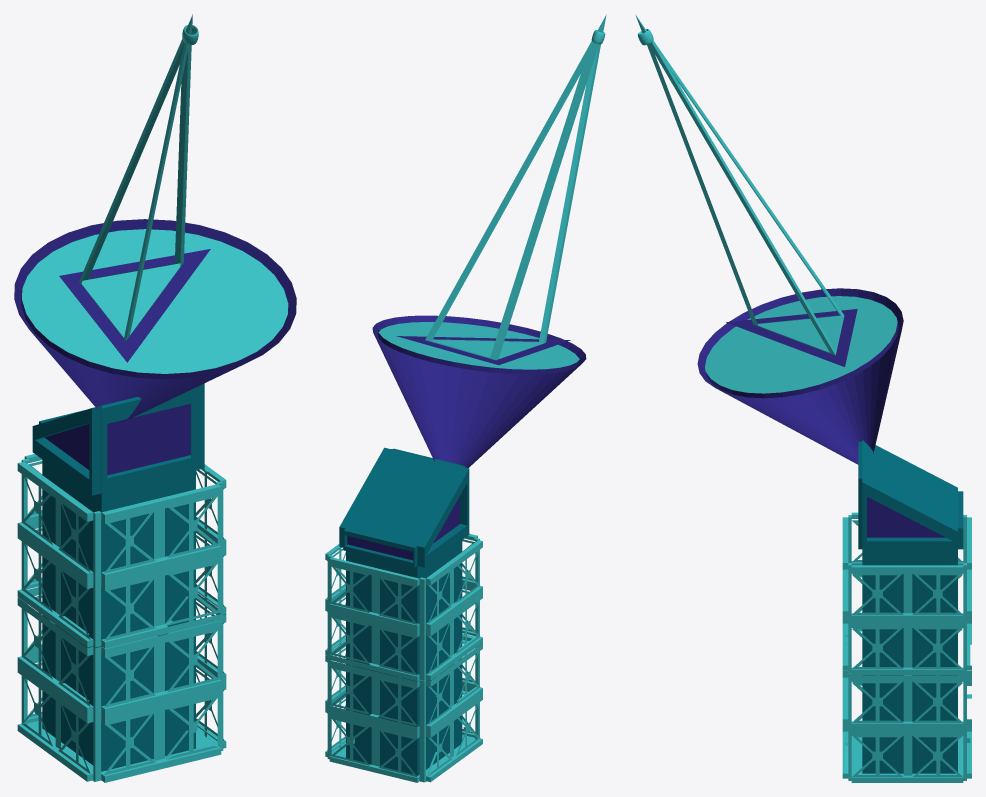
Rendered from Antenadiminuida.fbx.
The picture shows the model from 3 angles, left to right: view 1: azimuth 30°, elevation 25°; view 2: azimuth 150°, elevation 25°; view 3: azimuth 270°, elevation 25°; orthographic projection. The views are drawn at different scales.
Visible parts, largest first — view 1: Cube.003; view 2: Cube.003; view 3: Cube.003.
Boxes of the visible parts, bbox=[...] form: Cube.003: bbox=[14, 14, 296, 782]; Cube.003: bbox=[325, 14, 606, 782]; Cube.003: bbox=[635, 15, 971, 782].
Bounding box in the file's own units: 1527 × 5045 × 2188.
